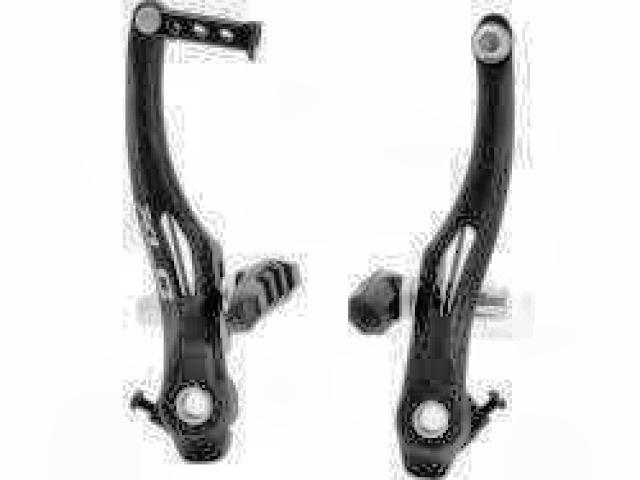rim_brake: (122, 0, 518, 480)
